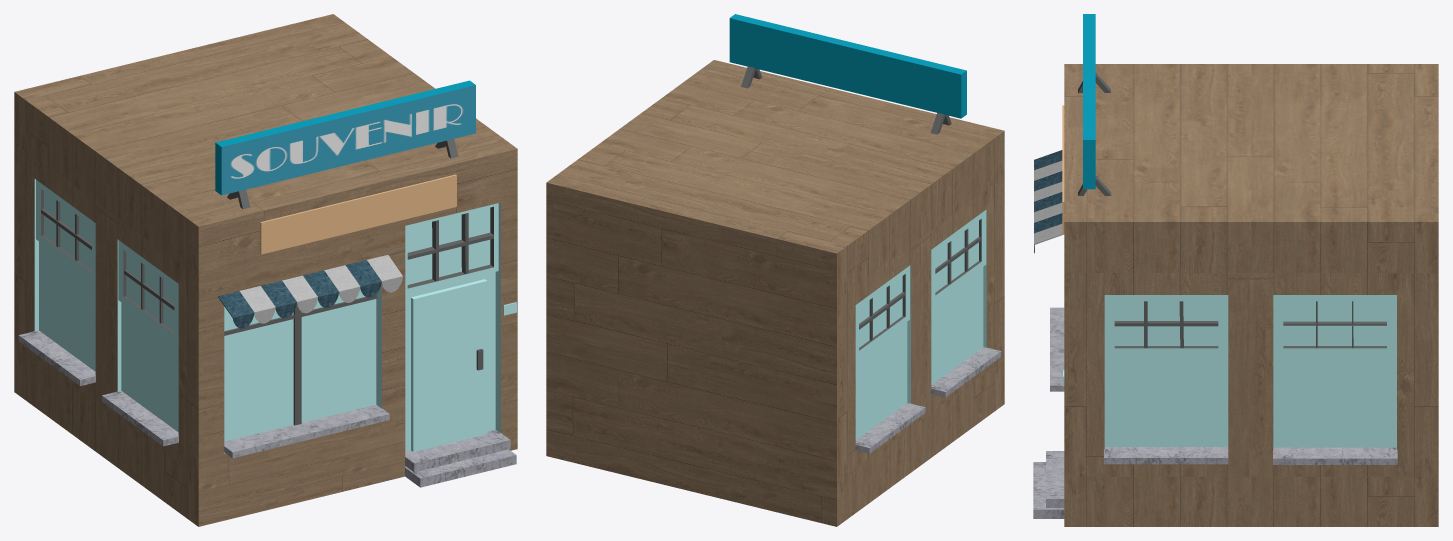
File: Tienda2.fbx
3 views of the same model, side by side, from view 1: azimuth 30°, elevation 25°; view 2: azimuth 150°, elevation 25°; view 3: azimuth 270°, elevation 25° (orthographic). The views are drawn at different scales.
Parts seen in each view (by area): view 1: Tienda; view 2: Tienda; view 3: Tienda.
Boxes of the visible parts, x1,y1,x2,y2 form: Tienda: (14,14,517,526); Tienda: (546,14,1004,526); Tienda: (1033,14,1438,526).
Size of the model in its own units: 74.97 by 74.69 by 73.59.
